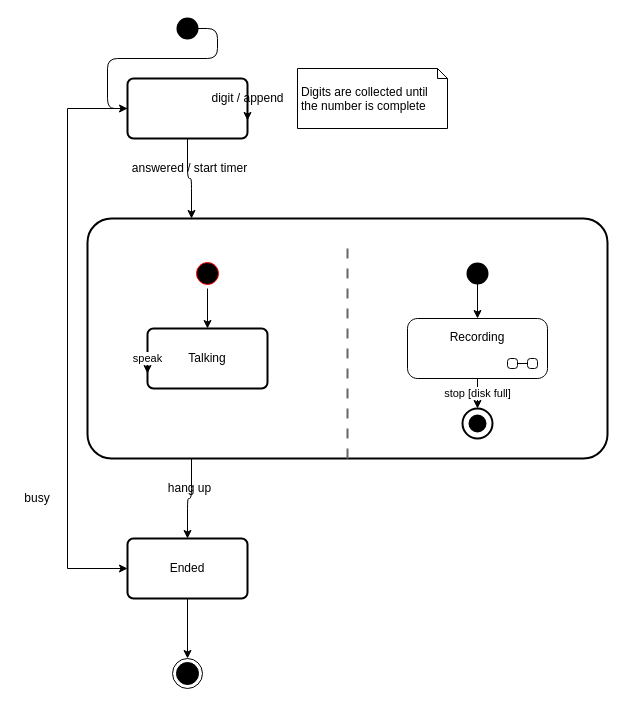
The diagram is 625 pixels wide and 706 high, and some of its shapes have lost their labels. Each missing label, with the box of its shape:
Active: (86, 217, 608, 459)
Dialing: (126, 77, 248, 139)
